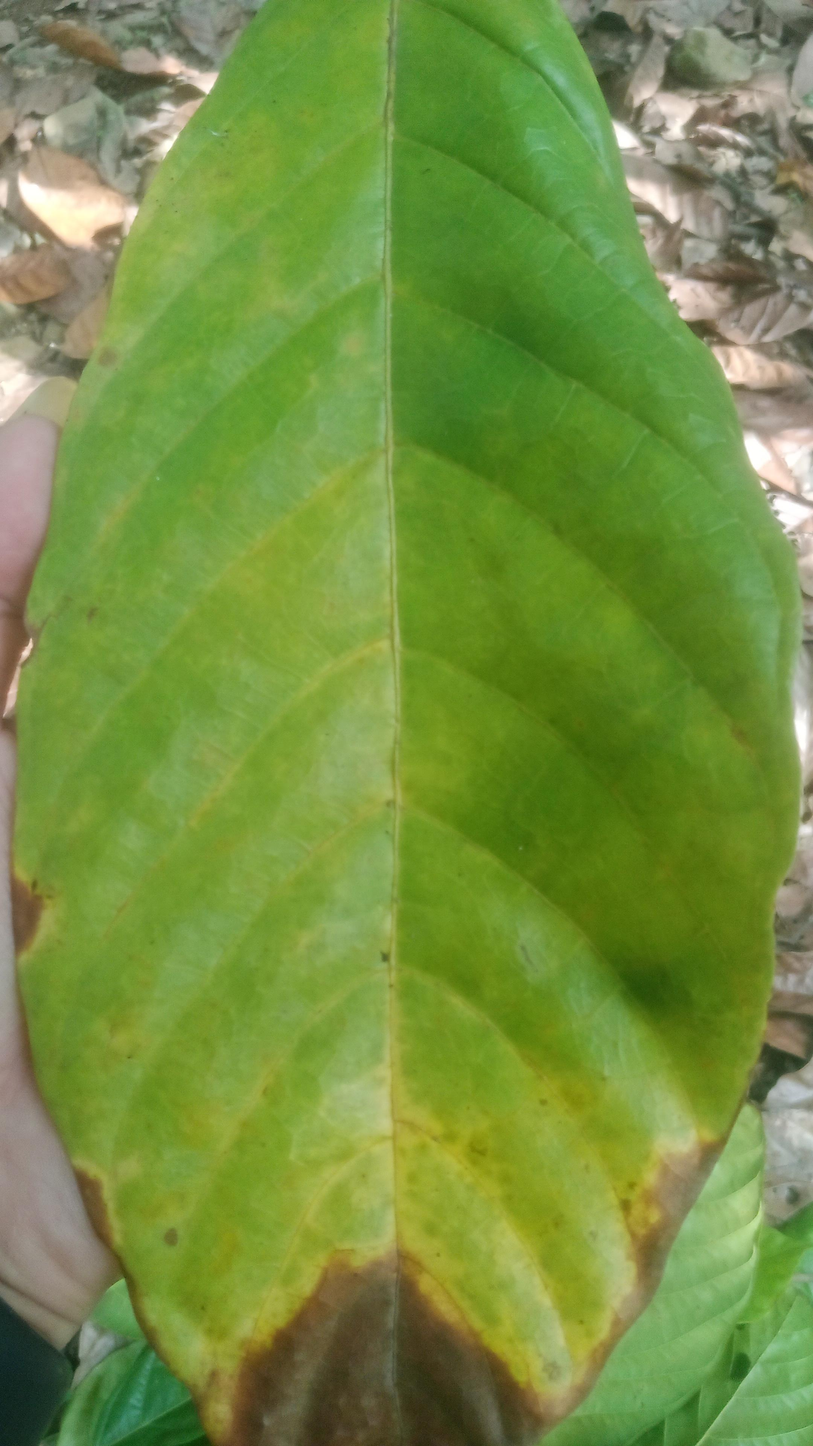deficiencia_potasio: (4, 0, 802, 1446)
